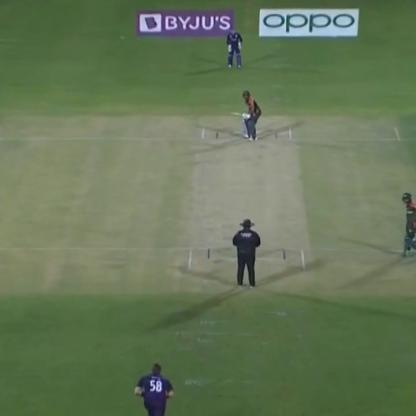bat: (225, 106, 248, 121)
pitch: (185, 132, 311, 279)
